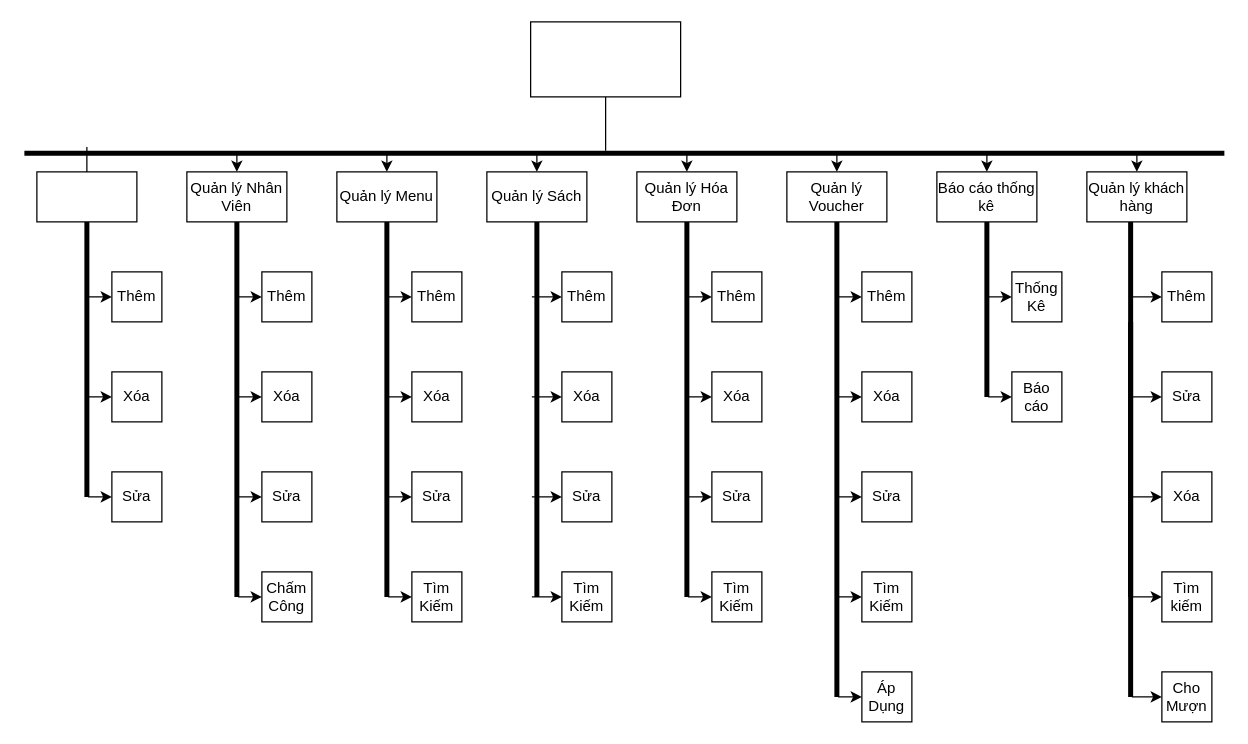
This 1248x744 diagram has some shape labels left out. Here are the shapes that lost their labels. From the top down, the box of each, then its label:
(529, 21, 681, 97): Phần mềm quản lý Cafe Sách
(36, 171, 137, 222): Quản lý tài khoản
